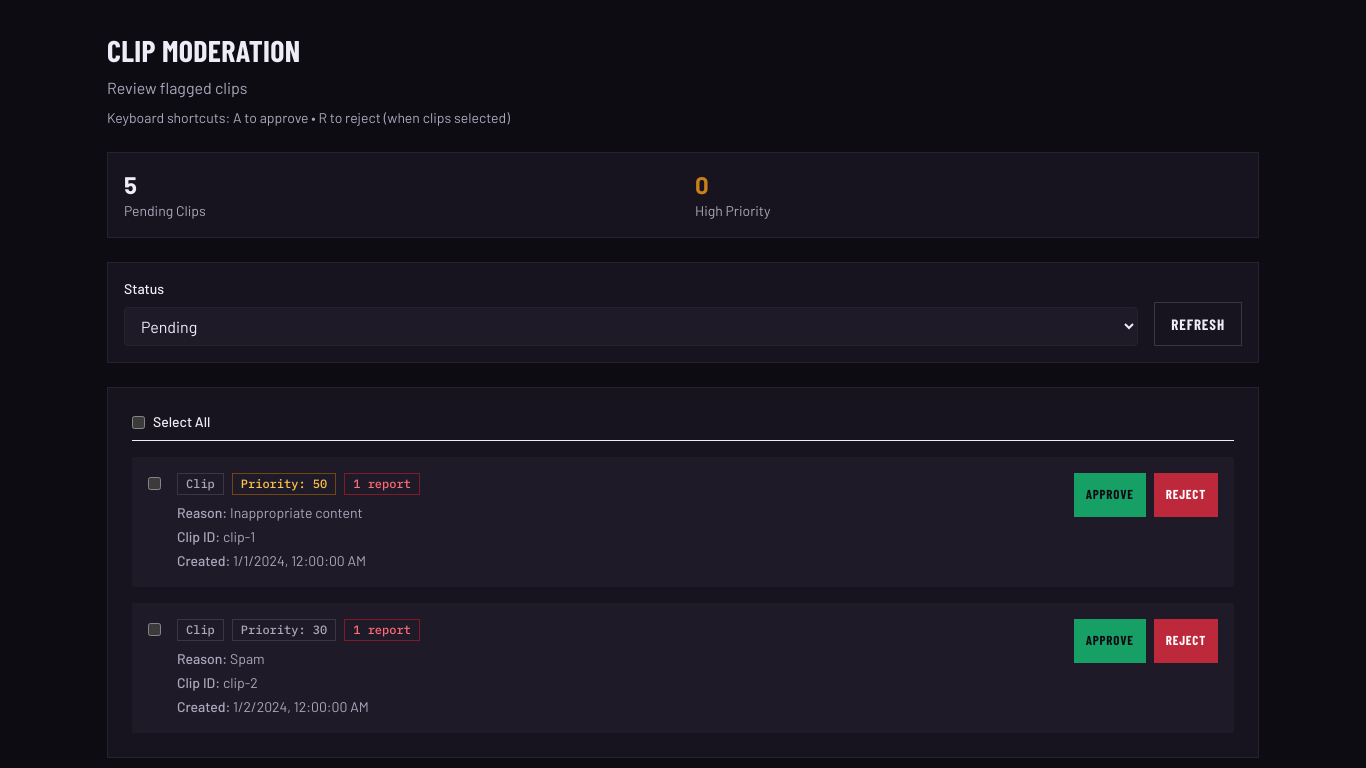
it: ModerationQueueView › Success Messages › displays success message after approving items
Check: the text "clip-1" is shown, box [223, 528, 255, 545]
Click the button "Approve" in the row of "Inappropriate content".
click(1110, 495)  # box [1074, 473, 1146, 517]
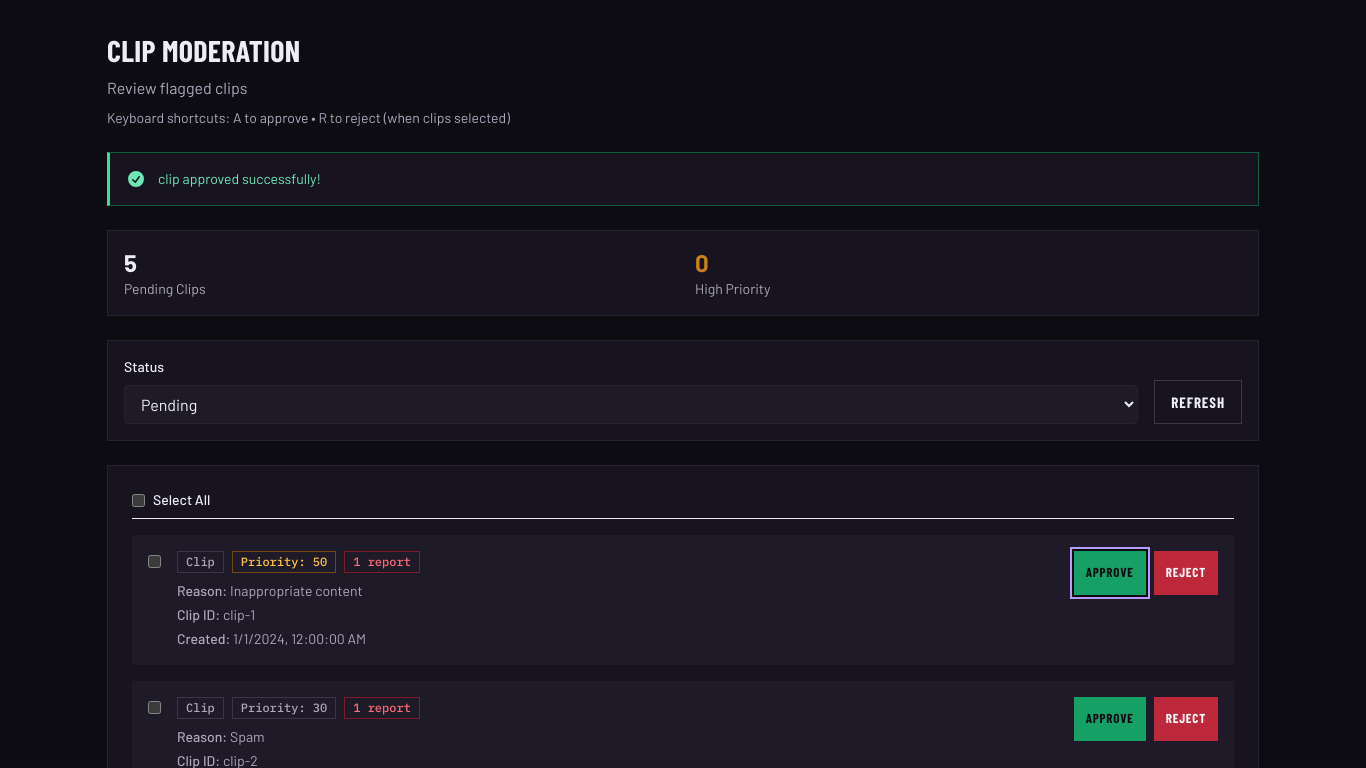
Check: the text "clip approved successfully!" is shown, box [158, 170, 321, 187]
